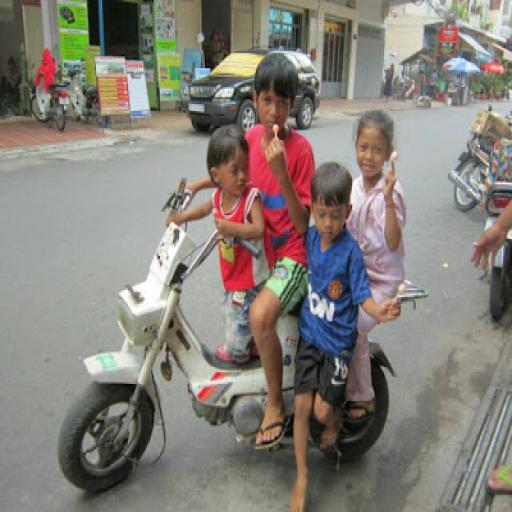overloading: (55, 172, 429, 494)
